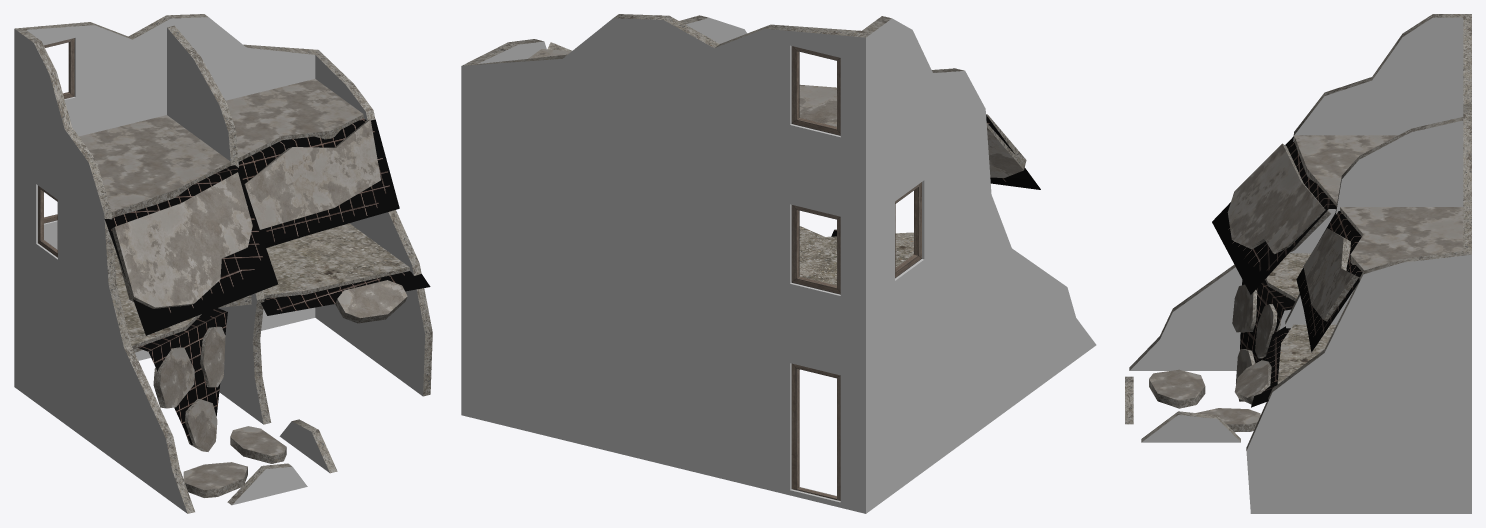
Rendered from Building_J_Backside_Destroyed.fbx.
The picture shows the model from 3 angles, left to right: view 1: azimuth 30°, elevation 25°; view 2: azimuth 150°, elevation 25°; view 3: azimuth 270°, elevation 25°; orthographic projection. The views are drawn at different scales.
Parts seen in each view (by area): view 1: Walls, Floors_Collapsed, Rebar, Broken_Concrete, Floor_Top, Floor_Bottom, Windows; view 2: Walls, Windows, Broken_Concrete, Floor_Bottom, Floor_Top, Floors_Collapsed, Rebar; view 3: Walls, Floors_Collapsed, Broken_Concrete, Floor_Top, Rebar, Floor_Bottom.
Part boxes in pixels (x1,y1,x2,y2): Walls: (14,17,425,513); Floors_Collapsed: (115,119,407,490); Rebar: (104,118,430,445); Broken_Concrete: (15,14,432,513); Floor_Top: (79,79,363,211); Floor_Bottom: (114,223,409,345); Windows: (38,38,74,257); Walls: (461,18,1096,513); Windows: (791,46,921,500); Broken_Concrete: (462,14,1026,169); Floor_Bottom: (799,226,913,285); Floor_Top: (528,49,836,126); Floors_Collapsed: (987,127,1023,177); Rebar: (831,115,1040,236); Walls: (1130,17,1471,513); Floors_Collapsed: (1149,143,1353,424); Broken_Concrete: (1125,14,1471,450); Floor_Top: (1294,135,1463,270); Rebar: (1212,136,1362,407); Floor_Bottom: (1266,253,1336,384).
Bounding box in the file's own units: 805 × 900 × 800.
